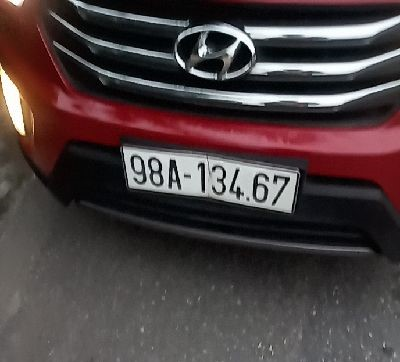number_plate: (101, 127, 320, 238)
